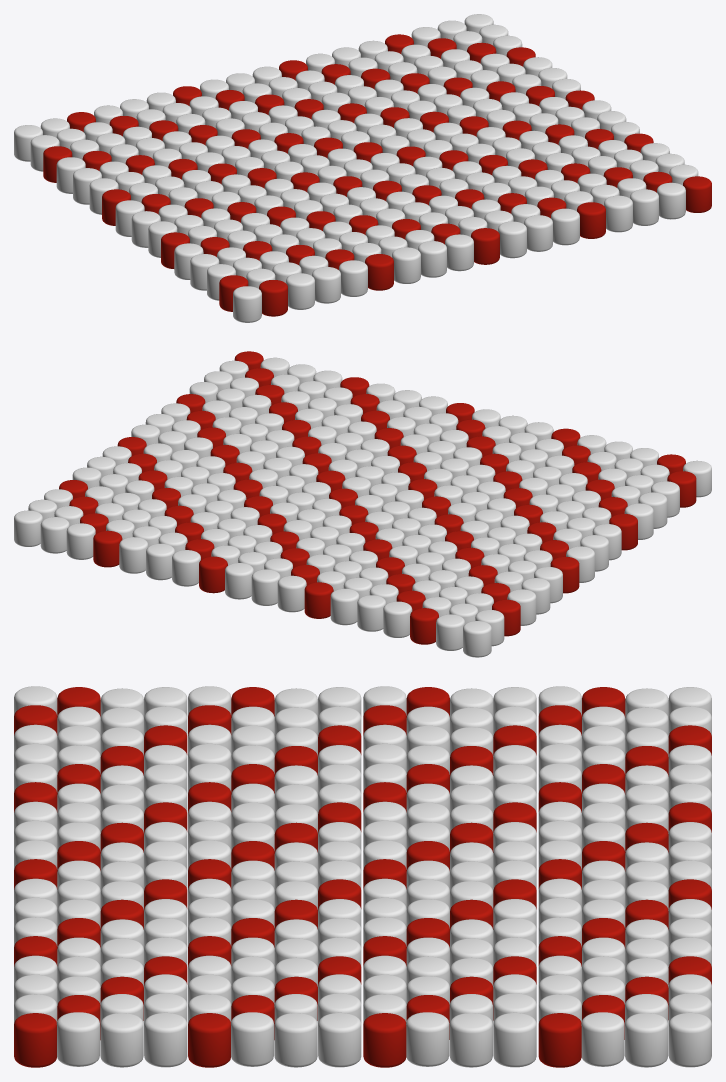
File: Beads.fbx
3 views of the same model, one above another, from view 1: azimuth 30°, elevation 25°; view 2: azimuth 150°, elevation 25°; view 3: azimuth 270°, elevation 25° (orthographic). The views are drawn at different scales.
Visible parts, largest first — view 1: Cylinder.2366, Cylinder.2357, Cylinder.2650, Cylinder.2649, Cylinder.2353, Cylinder.2361, Cylinder.2365, Cylinder.2651, Cylinder.2652, Cylinder.3067, Cylinder.3354, Cylinder.3066 (+21 smaller); view 2: Cylinder.3243, Cylinder.2717, Cylinder.2426, Cylinder.2688, Cylinder.2418, Cylinder.2718, Cylinder.2716, Cylinder.2422, Cylinder.2980, Cylinder.2982, Cylinder.3215, Cylinder.2394 (+21 smaller); view 3: Cylinder.2686, Cylinder.2394, Cylinder.2397, Cylinder.3220, Cylinder.2395, Cylinder.2396, Cylinder.2689, Cylinder.2993, Cylinder.3218, Cylinder.3029, Cylinder.3216, Cylinder.3214 (+276 smaller).
Boxes of the visible parts, box(x1,y1,x2,y2) form: Cylinder.2366: box(233, 286, 261, 322); Cylinder.2357: box(551, 208, 579, 245); Cylinder.2650: box(498, 221, 526, 258); Cylinder.2649: box(604, 195, 632, 232); Cylinder.2353: box(657, 182, 685, 219); Cylinder.2361: box(445, 234, 473, 271); Cylinder.2365: box(339, 260, 367, 296); Cylinder.2651: box(392, 247, 420, 283); Cylinder.2652: box(286, 273, 314, 309); Cylinder.3067: box(471, 228, 499, 264); Cylinder.3354: box(524, 215, 552, 251); Cylinder.3066: box(577, 202, 605, 238); Cylinder.3243: box(463, 621, 491, 657); Cylinder.2717: box(277, 575, 306, 612); Cylinder.2426: box(330, 588, 359, 625); Cylinder.2688: box(66, 523, 95, 559); Cylinder.2418: box(119, 537, 148, 573); Cylinder.2718: box(383, 601, 412, 637); Cylinder.2716: box(172, 550, 200, 586); Cylinder.2422: box(225, 563, 253, 599); Cylinder.2980: box(93, 530, 122, 567); Cylinder.2982: box(304, 582, 333, 618); Cylinder.3215: box(40, 517, 69, 553); Cylinder.2394: box(14, 510, 42, 546); Cylinder.2686: box(581, 1012, 624, 1066); Cylinder.2394: box(668, 1012, 711, 1067); Cylinder.2397: box(144, 1012, 187, 1067); Cylinder.3220: box(100, 1013, 143, 1067); Cylinder.2395: box(493, 1012, 536, 1067); Cylinder.2396: box(318, 1012, 361, 1067); Cylinder.2689: box(406, 1012, 449, 1066); Cylinder.2993: box(538, 1013, 581, 1067); Cylinder.3218: box(274, 1013, 317, 1067); Cylinder.3029: box(363, 1013, 406, 1067); Cylinder.3216: box(449, 1013, 492, 1067); Cylinder.3214: box(625, 1013, 668, 1067).
Bounding box in the file's own units: 1241 × 68.03 × 1057.
4 materials, 1 textured.
